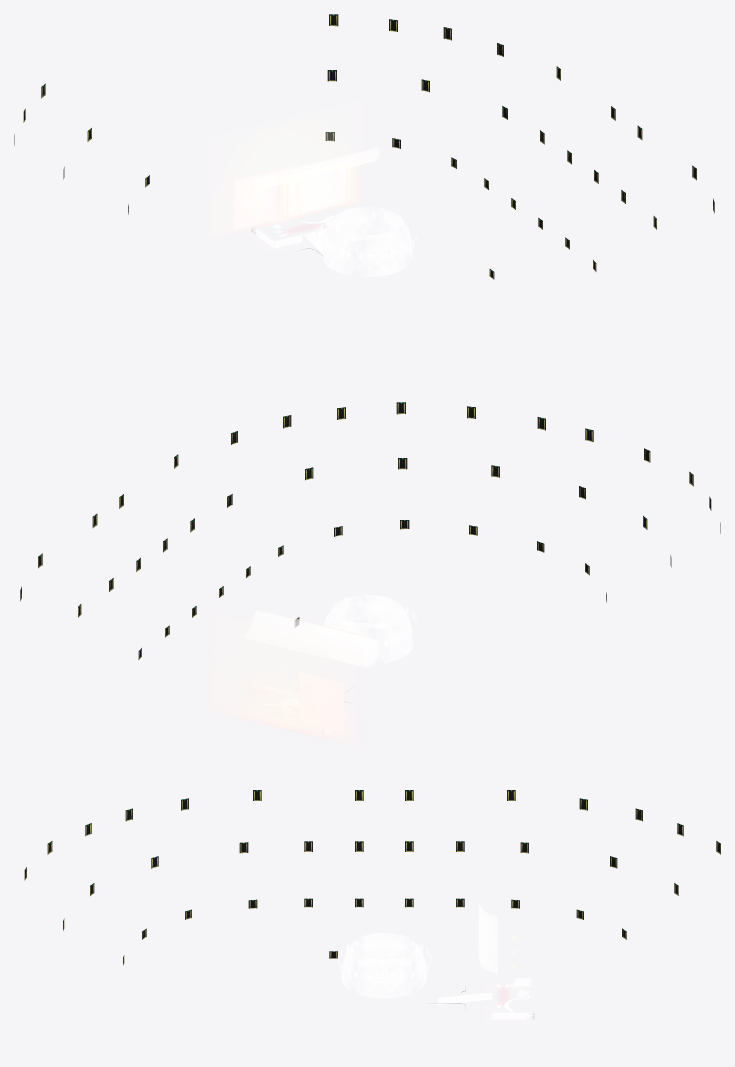
Rendered from raw_fx.glb.
3 renders of one model, top to bottom at view 1: azimuth 30°, elevation 25°; view 2: azimuth 150°, elevation 25°; view 3: azimuth 270°, elevation 25°, orthographic. The views are drawn at different scales.
Visible parts, largest first — view 1: Glow; view 2: Glow; view 3: Glow.
Part boxes in pixels (bbox=[...]): Glow: bbox=[14, 14, 714, 279]; Glow: bbox=[20, 402, 720, 748]; Glow: bbox=[24, 790, 720, 1022].
Size of the model in its own units: 132 by 25.27 by 166.
12 materials, 12 textured.
